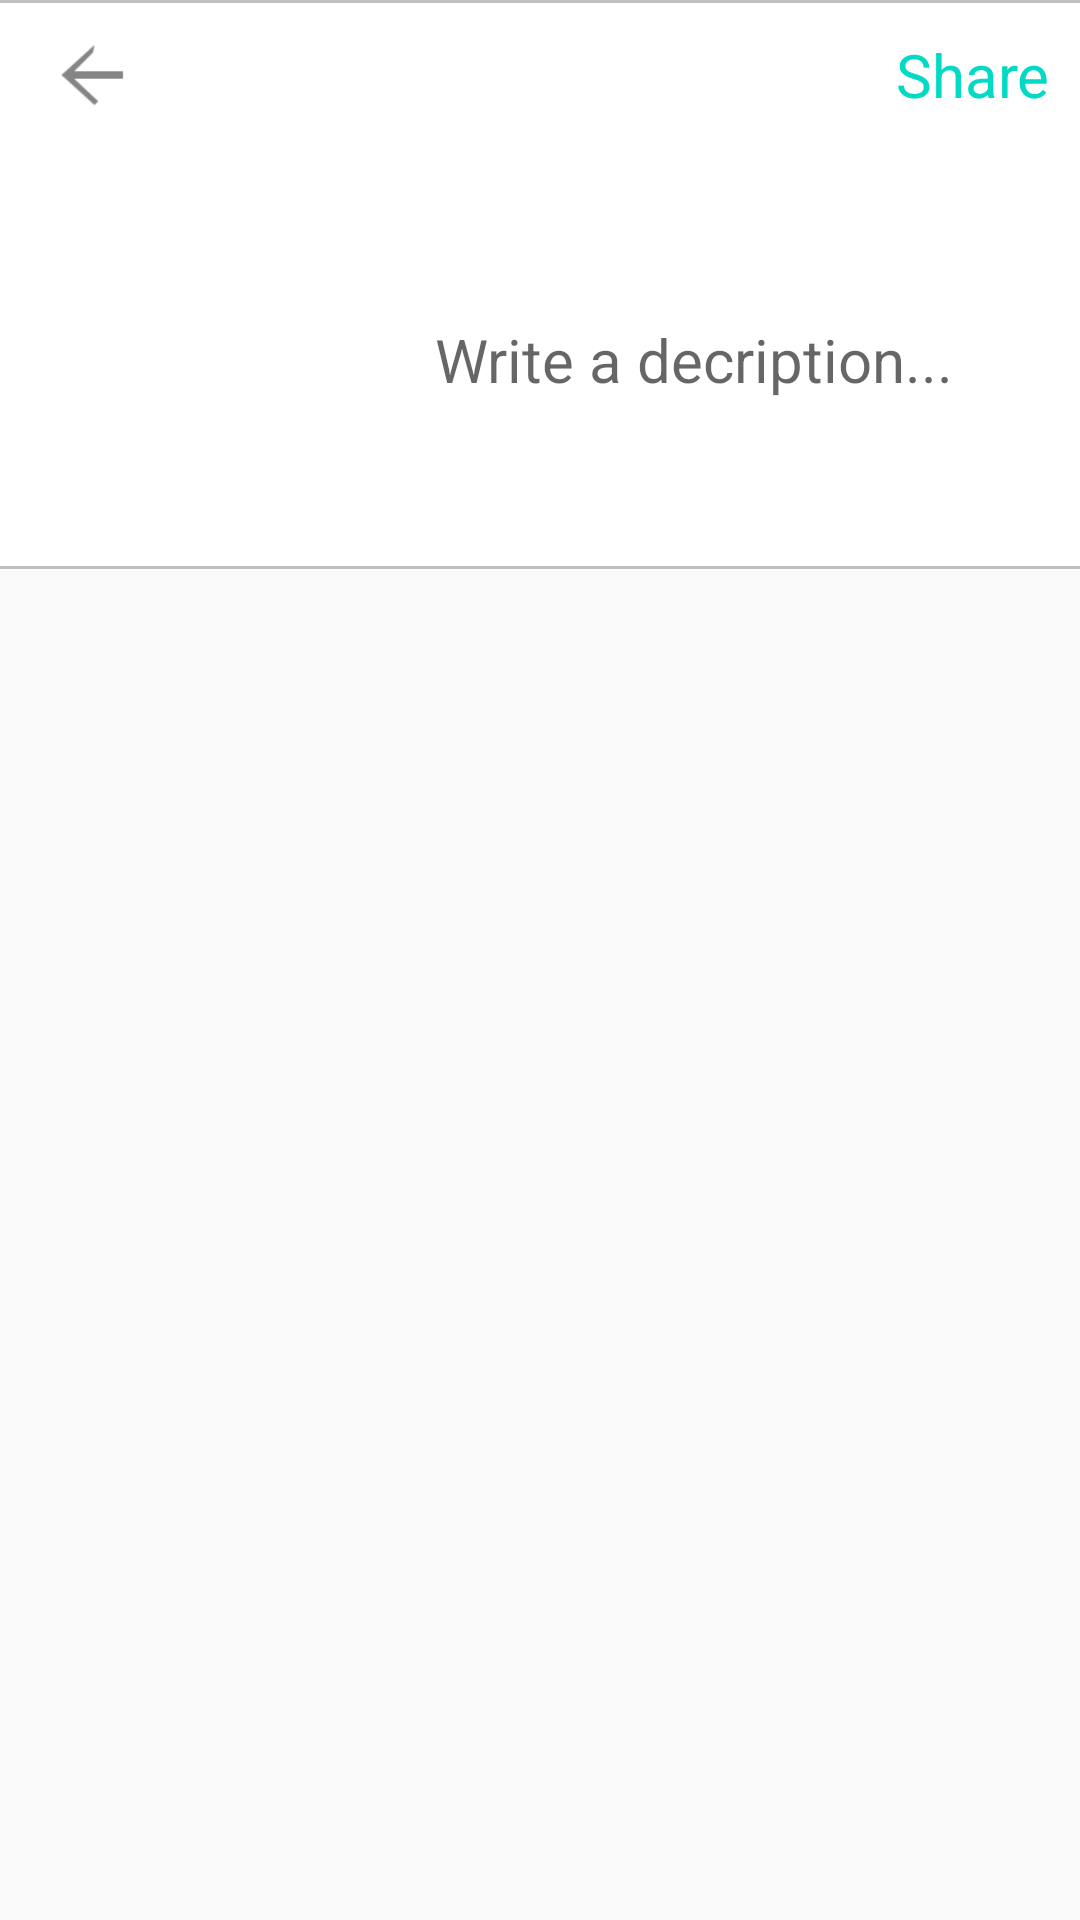

Locate icon controls on the screen. Image size 1080 x 1920, boxes as bbox(x1, y1, x2, y2).
back: bbox(61, 45, 123, 105)
